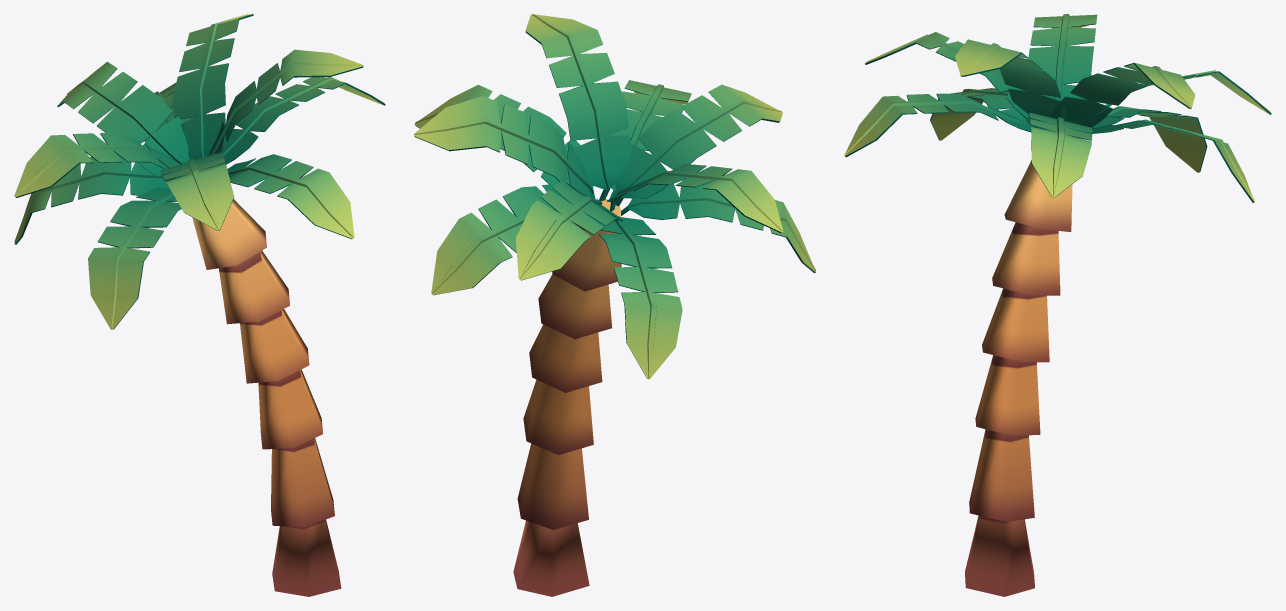
Rendered from Large_palm_noCoconut.fbx.
The picture shows the model from 3 angles, left to right: view 1: azimuth 30°, elevation 25°; view 2: azimuth 150°, elevation 25°; view 3: azimuth 270°, elevation 25°; orthographic projection. The views are drawn at different scales.
Visible parts, largest first — view 1: polySurface6; view 2: polySurface6; view 3: polySurface6.
Part boxes in pixels (left/top/right/bottom): polySurface6: left=14, top=14, right=385, bottom=596; polySurface6: left=414, top=14, right=815, bottom=596; polySurface6: left=844, top=14, right=1271, bottom=596.
Bounding box in the file's own units: 7.12 × 9.88 × 7.24.
